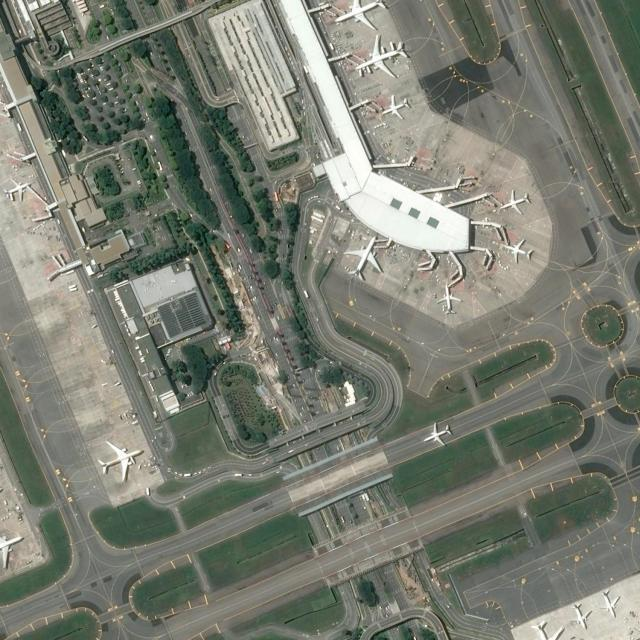Aircraft: (356, 34, 410, 78), (98, 440, 145, 480), (345, 235, 383, 281), (336, 0, 389, 29), (0, 528, 26, 568), (423, 422, 453, 448), (437, 283, 461, 315), (503, 238, 534, 262), (384, 93, 412, 119), (502, 189, 532, 213), (5, 178, 32, 200)
